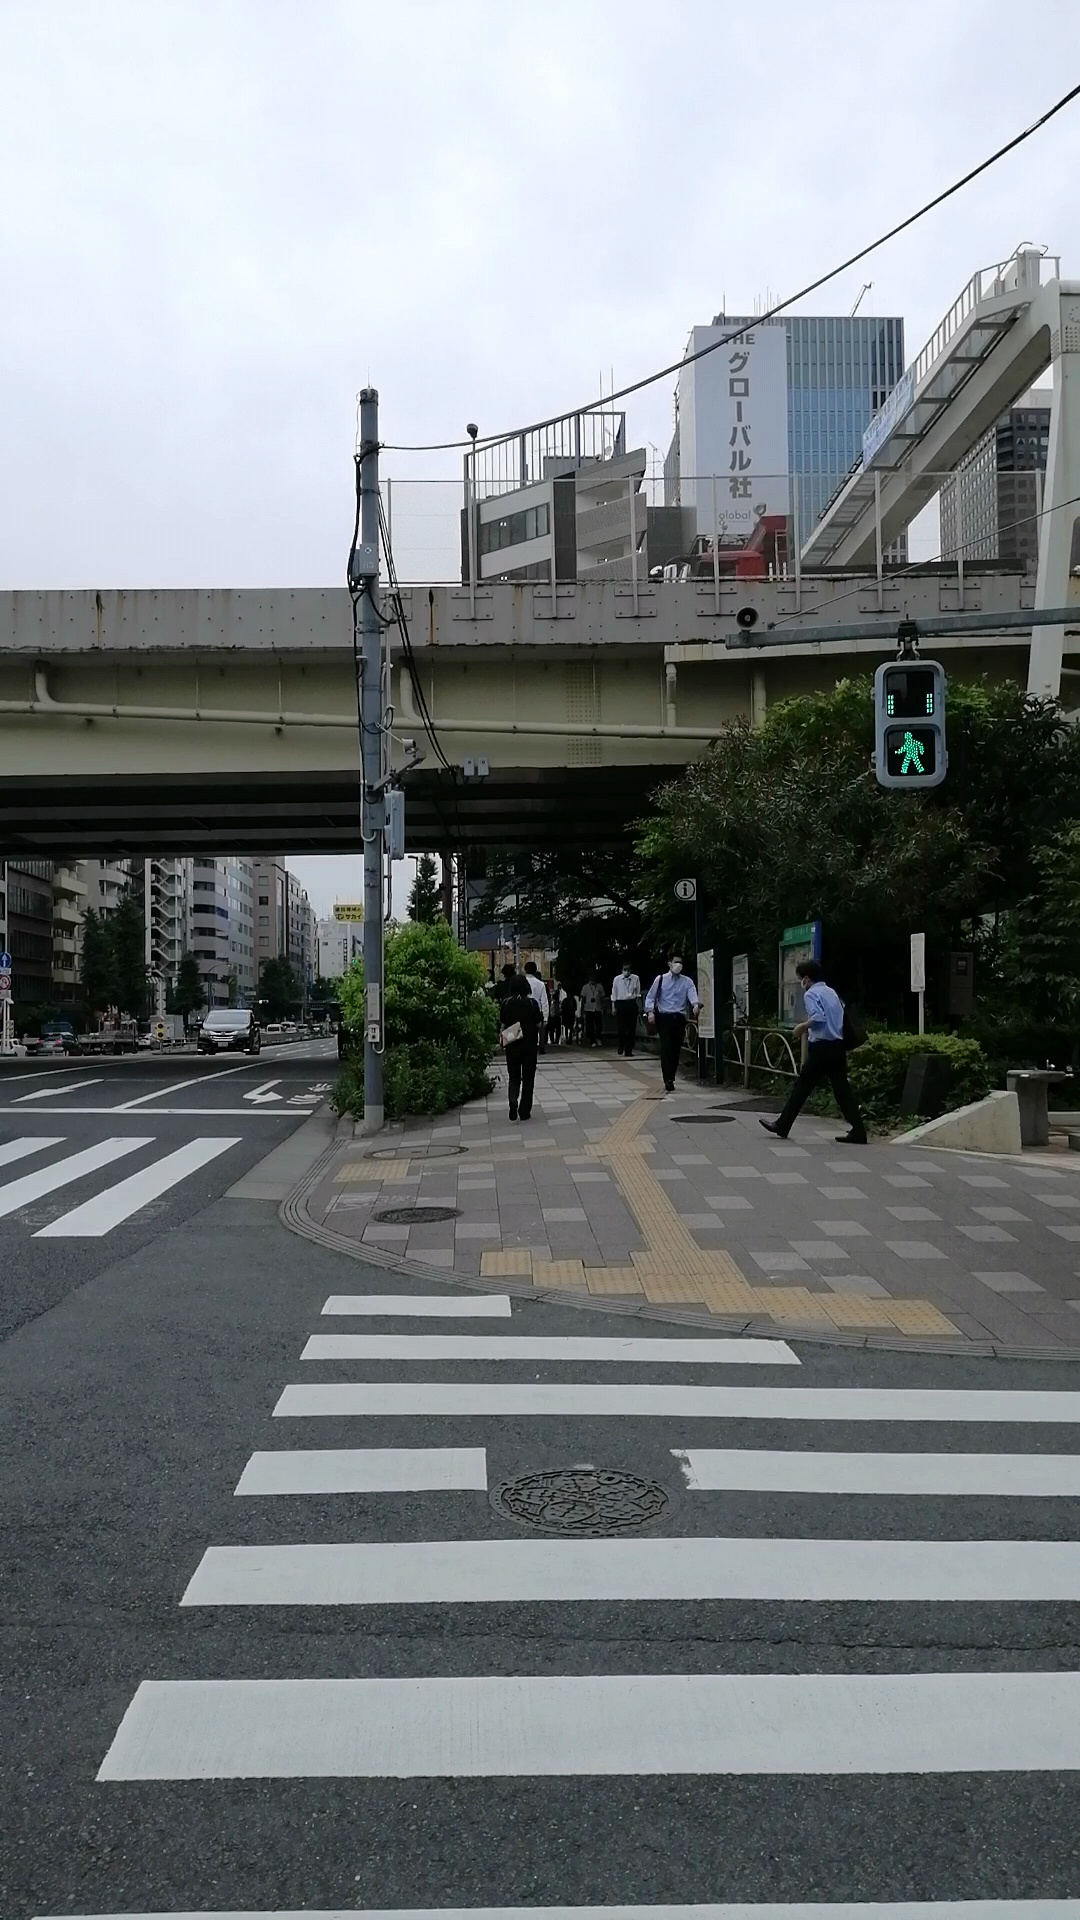green: (873, 661, 944, 787)
